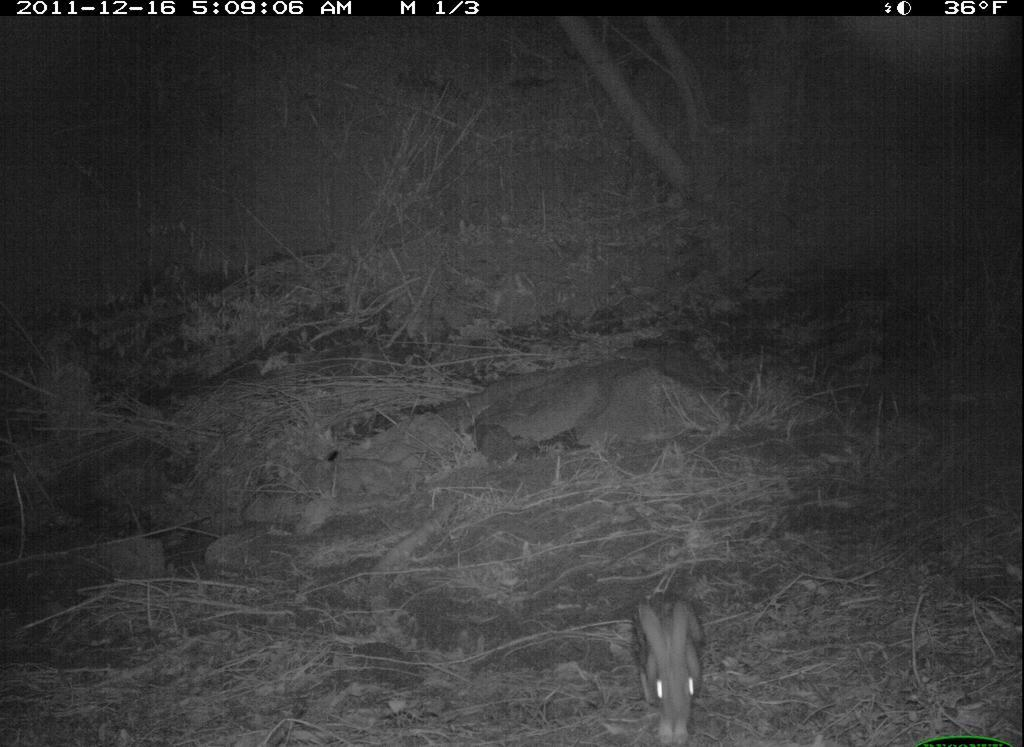rabbit: (623, 585, 720, 744)
